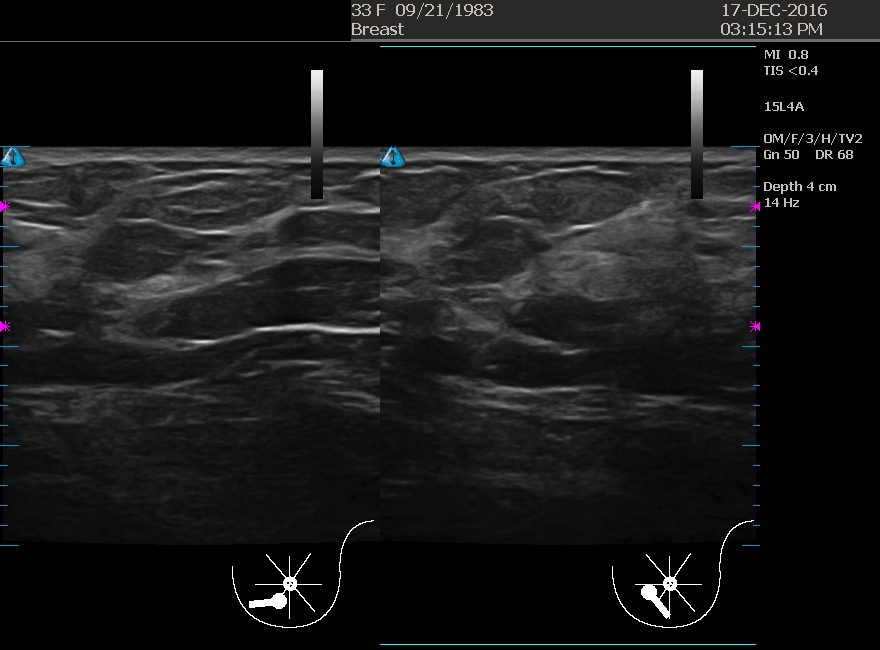Benign: (39, 161, 239, 361), (399, 185, 599, 385)
